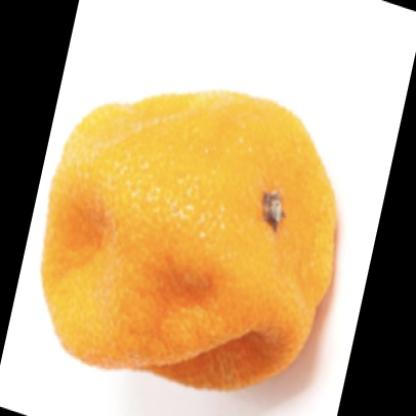rotten: (44, 93, 337, 395)
